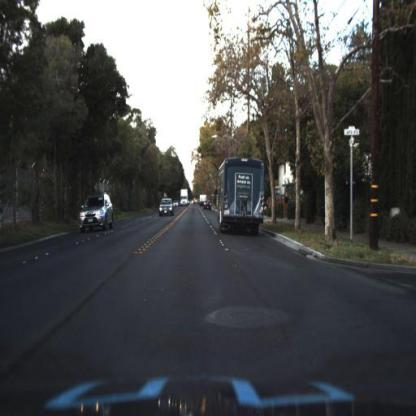car: (79, 194, 116, 231), (157, 198, 175, 219), (159, 197, 174, 219), (202, 196, 218, 216)
truck: (215, 158, 267, 238), (179, 187, 190, 208)
